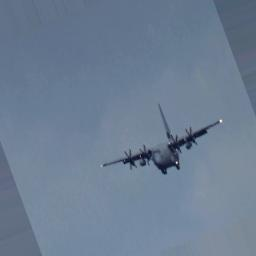Airplane: (100, 102, 223, 177)
